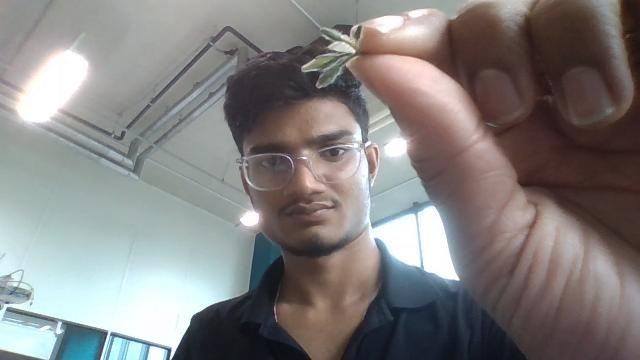Flower Bud: (302, 52, 348, 72), (319, 25, 358, 47)
